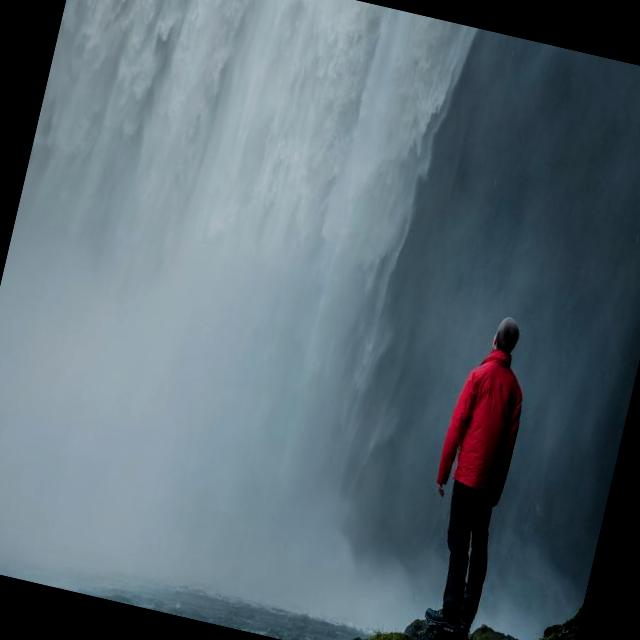person: (400, 307, 543, 640)
